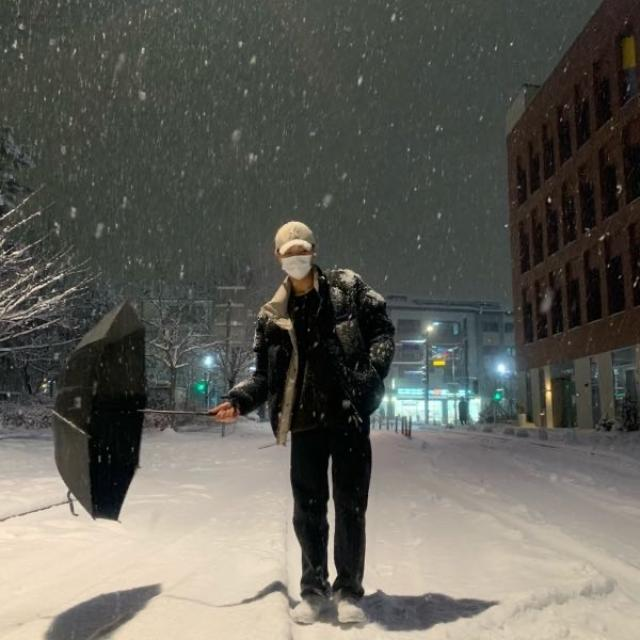denimpants: (291, 426, 368, 604)
padding: (224, 271, 397, 433)
